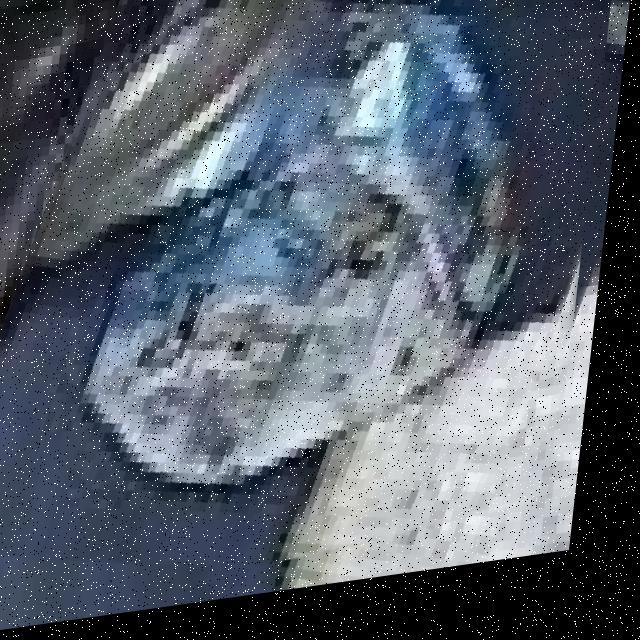litter: (58, 0, 589, 582)
